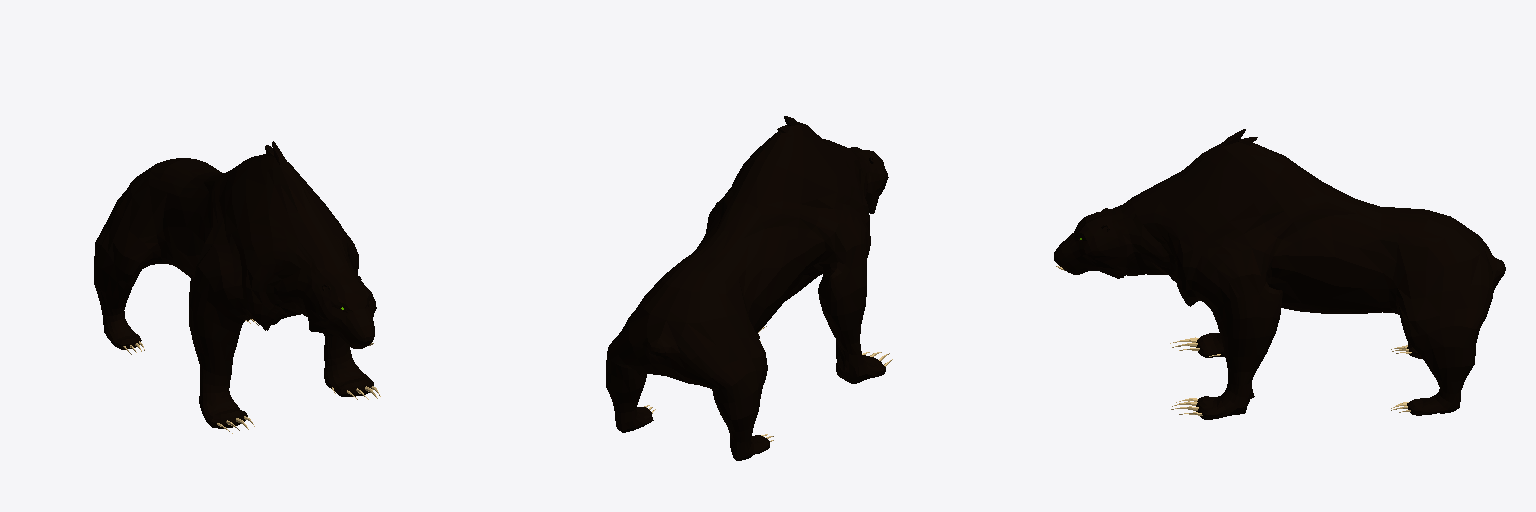
The model's file is BearEdited_02.obj.
3 views of the same model, side by side, from view 1: azimuth 30°, elevation 25°; view 2: azimuth 150°, elevation 25°; view 3: azimuth 270°, elevation 25° (orthographic).
Visible parts, largest first — view 1: finalbear7; view 2: finalbear7; view 3: finalbear7.
Part boxes in pixels (x1,y1,x2,y2): finalbear7: (94, 141, 380, 433); finalbear7: (606, 116, 892, 460); finalbear7: (1054, 129, 1505, 419).
Bounding box in the file's own units: 1.12 × 1.68 × 2.69.